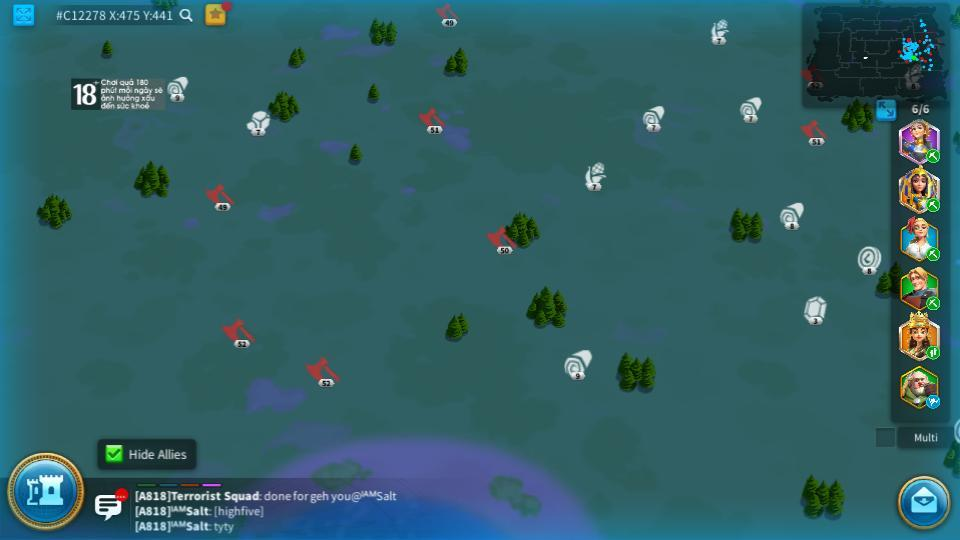gem-z-out: (803, 296, 827, 324)
march_farming: (924, 197, 939, 212)
march_idle: (925, 396, 942, 408)
march_marching: (925, 347, 941, 359), (925, 150, 941, 162), (926, 297, 941, 308)
